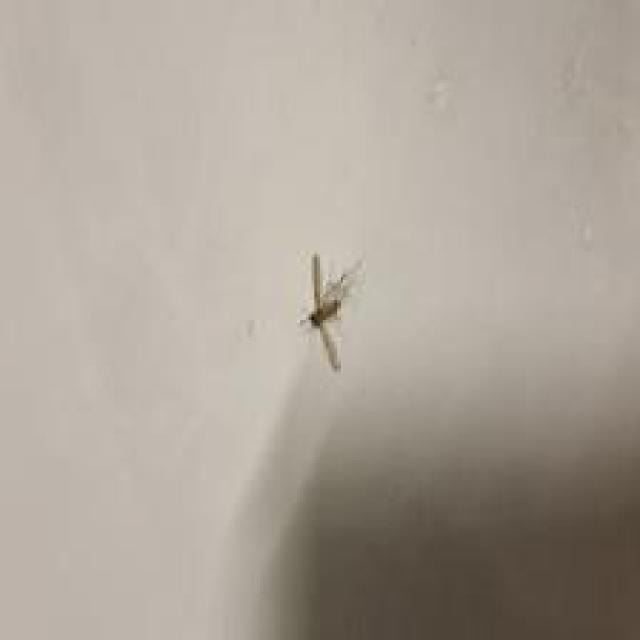Culex: (297, 252, 366, 372)
